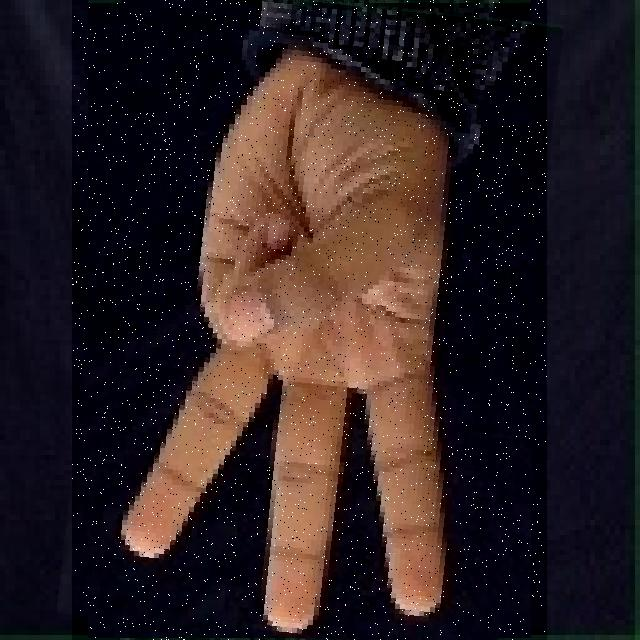Please: (72, 0, 547, 640)
